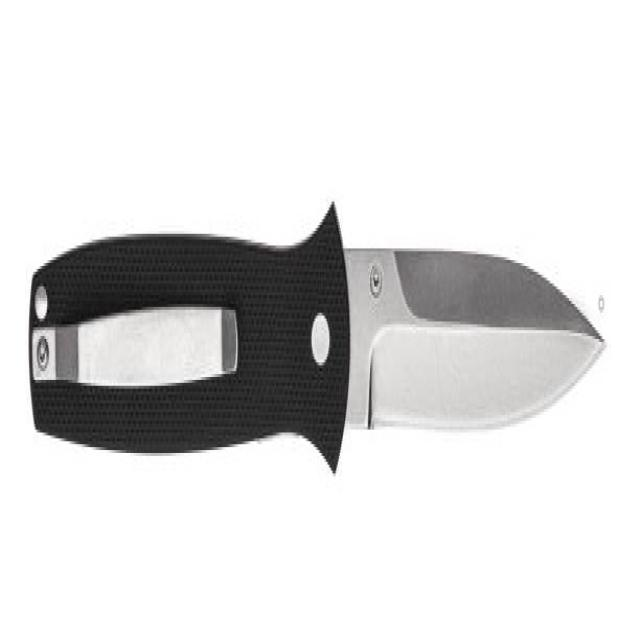knife: (15, 188, 612, 550)
